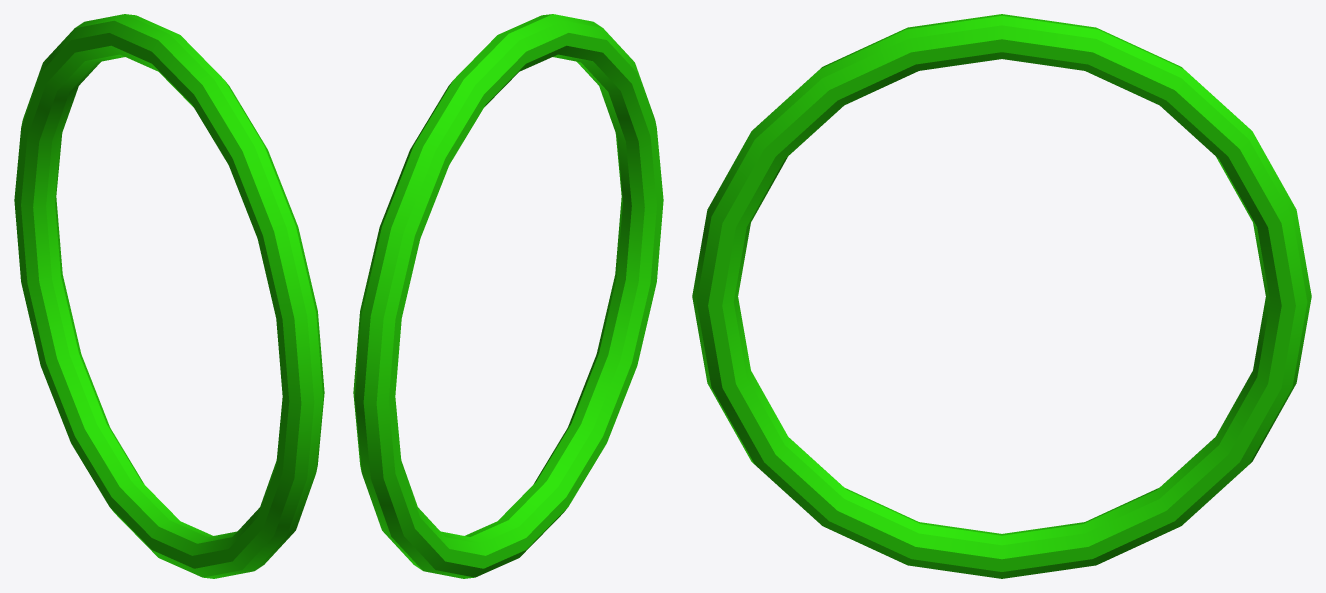
File: Ring_Green.fbx
The picture shows the model from 3 angles, left to right: view 1: azimuth 30°, elevation 25°; view 2: azimuth 150°, elevation 25°; view 3: azimuth 270°, elevation 25°; orthographic projection. The views are drawn at different scales.
Parts seen in each view (by area): view 1: pTorus1; view 2: pTorus1; view 3: pTorus1.
Part boxes in pixels (<box>): pTorus1: <box>14,14,324,578</box>; pTorus1: <box>353,14,663,578</box>; pTorus1: <box>692,14,1311,578</box>.
Bounding box in the file's own units: 0.1522 × 2.16 × 2.16.
